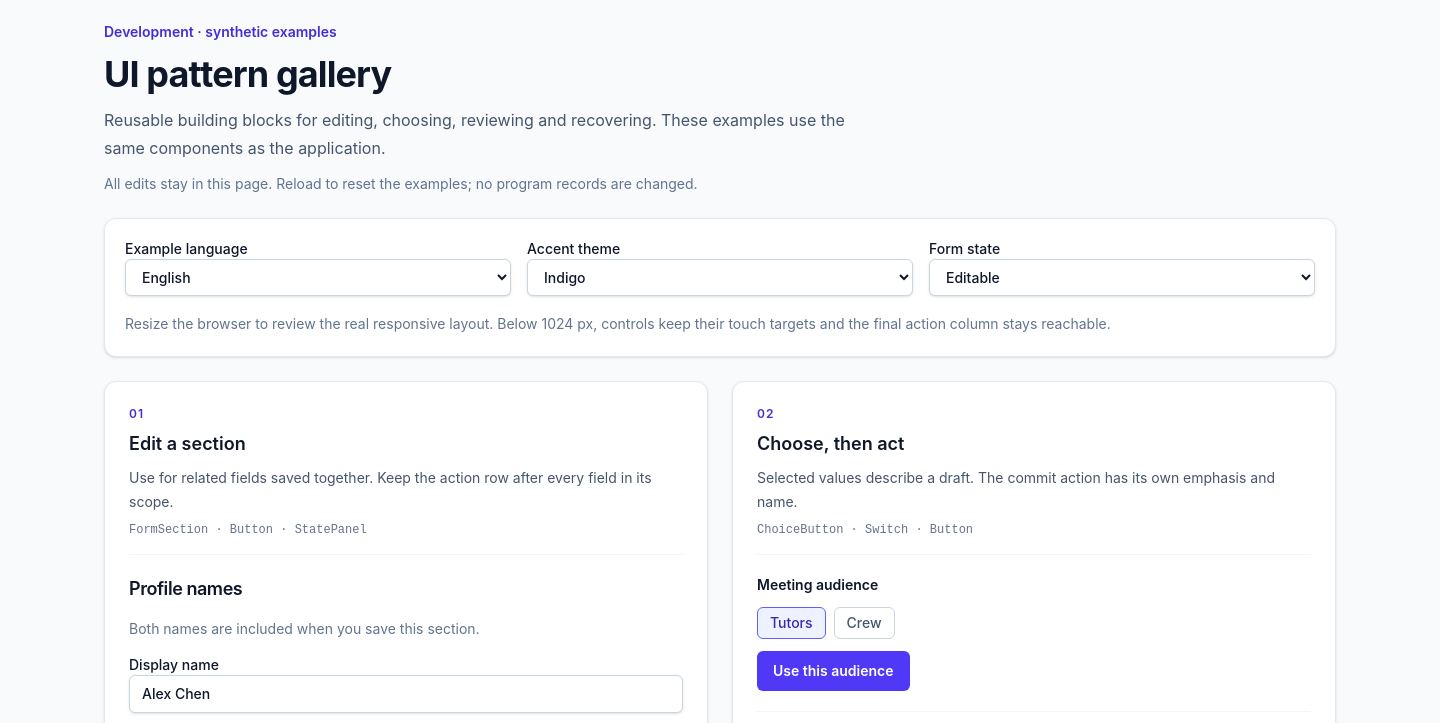
Test: shows saving, error and read-only states while keeping a failed draft available
Step 1. Replace the text in the field labelled "Display name" with "Unsaved draft" → (406, 694), box x1=129 y1=675 x2=683 y2=713
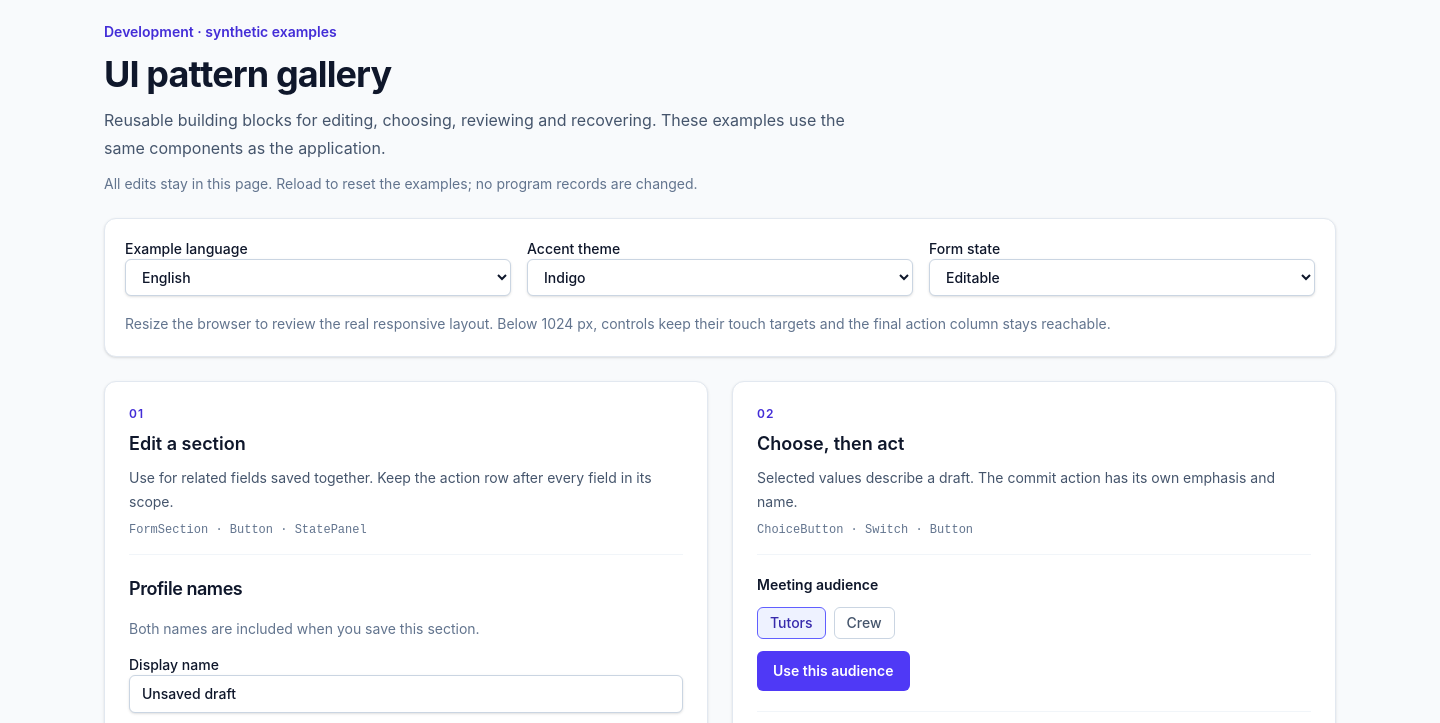
Step 2. Select "Saving" in the dropdown labelled "Form state" → (1122, 278), box x1=929 y1=259 x2=1315 y2=296
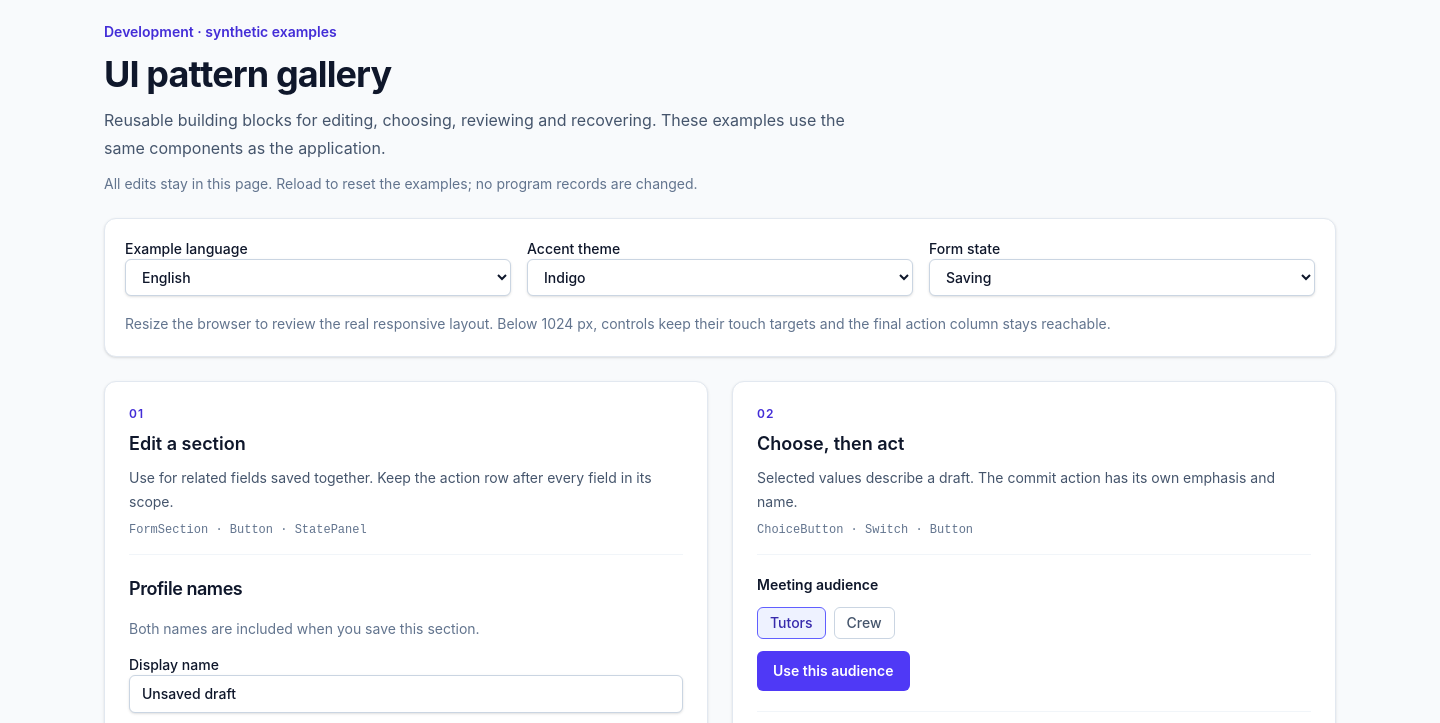
Step 3. Select "Save failed" in the dropdown labelled "Form state" → (1122, 278), box x1=929 y1=259 x2=1315 y2=296
(page scrolled)
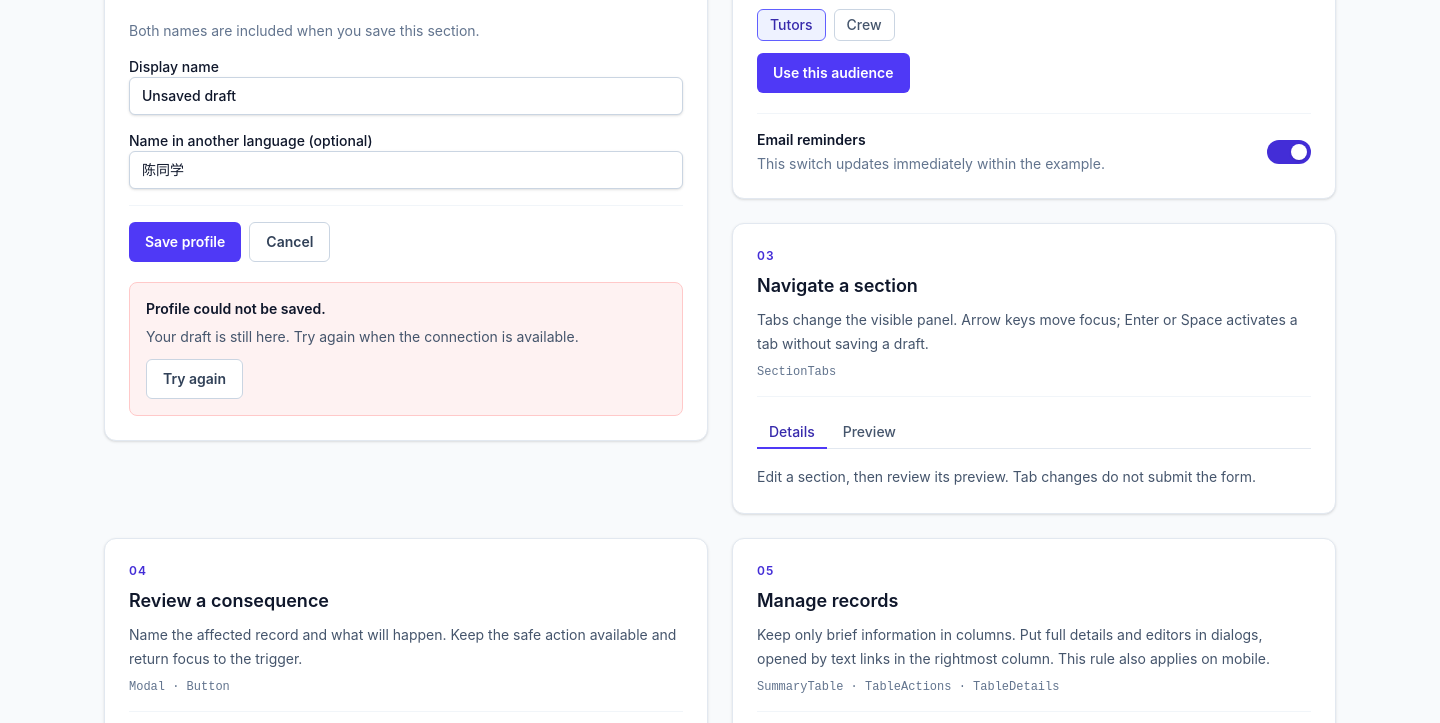
Step 4. Click the button "Try again" → (195, 379), box x1=146 y1=359 x2=243 y2=399
(page scrolled)
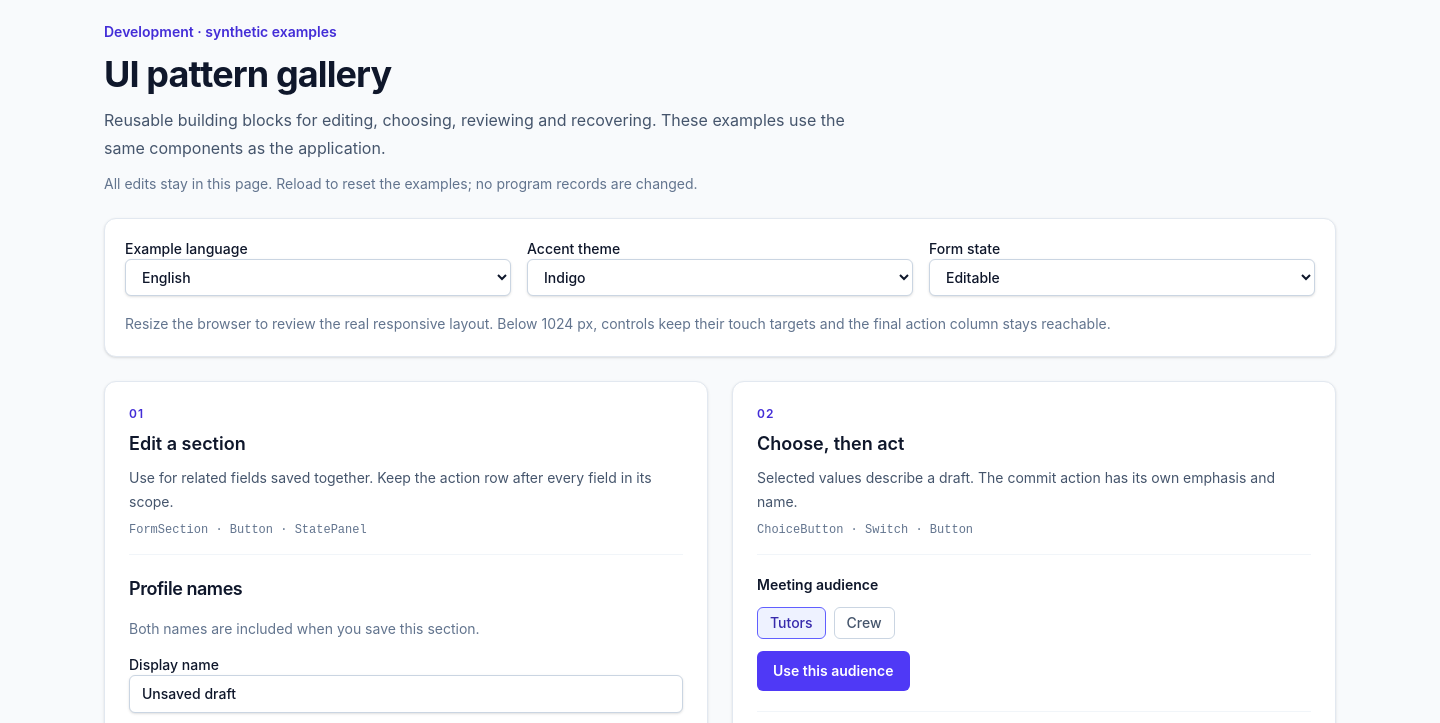
Now the heading "Profile could not be saved." is gone
Step 5. Select "Read only" in the dropdown labelled "Form state" → (1122, 278), box x1=929 y1=259 x2=1315 y2=296
(page scrolled)
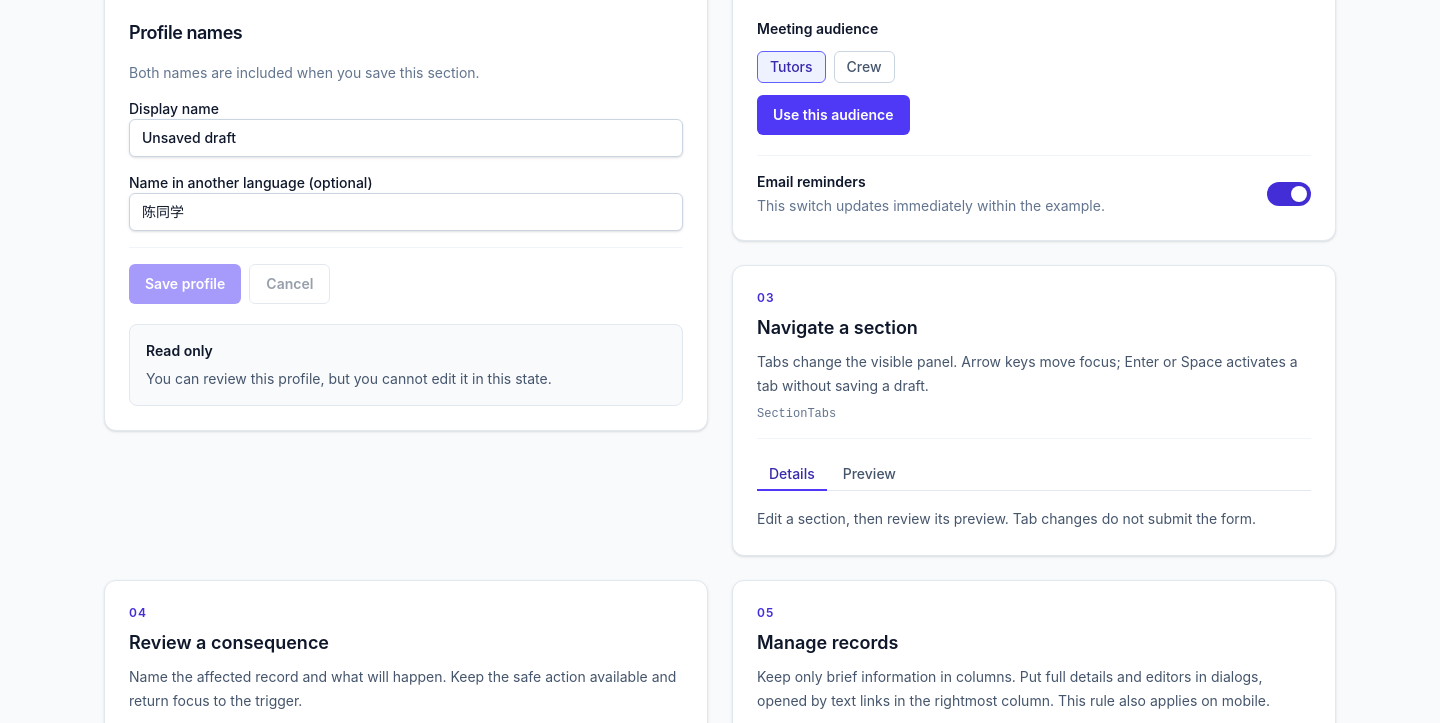
Now the button "Save profile" is disabled, box x1=129 y1=264 x2=241 y2=304
Now the text "You can review this profile, but you cannot edit it in this state." is shown, box x1=146 y1=370 x2=552 y2=387
